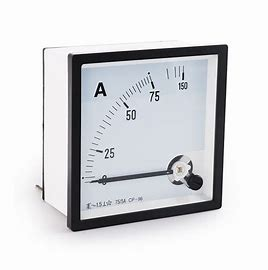pointer: (81, 55, 217, 219)
